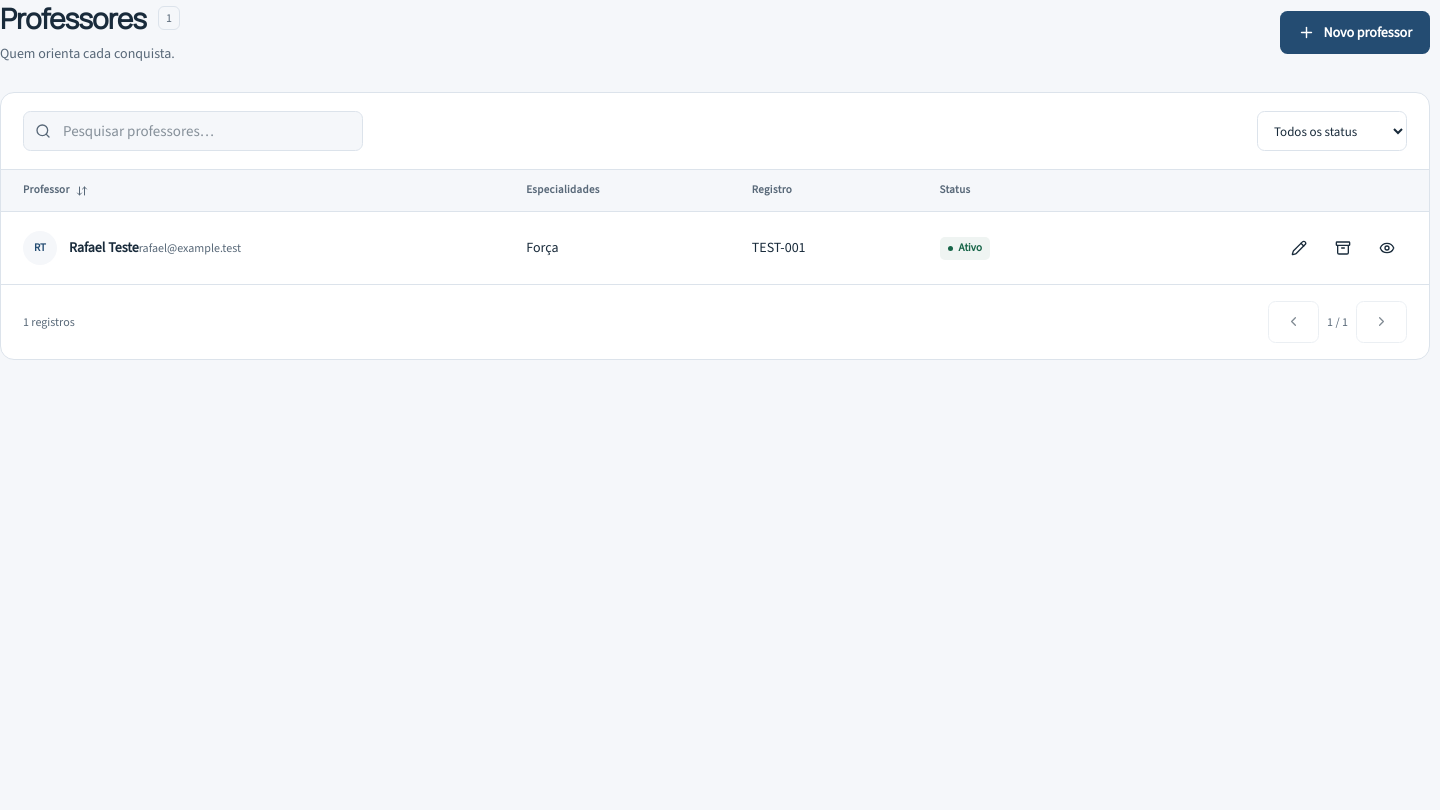
Test case: teachers › cria registro com validação e atualiza os dados exibidos
Expected: the table is shown, [1,170,1429,284]
Click the button "Novo professor". click: (1355, 32)
box: [1280,11,1430,54]
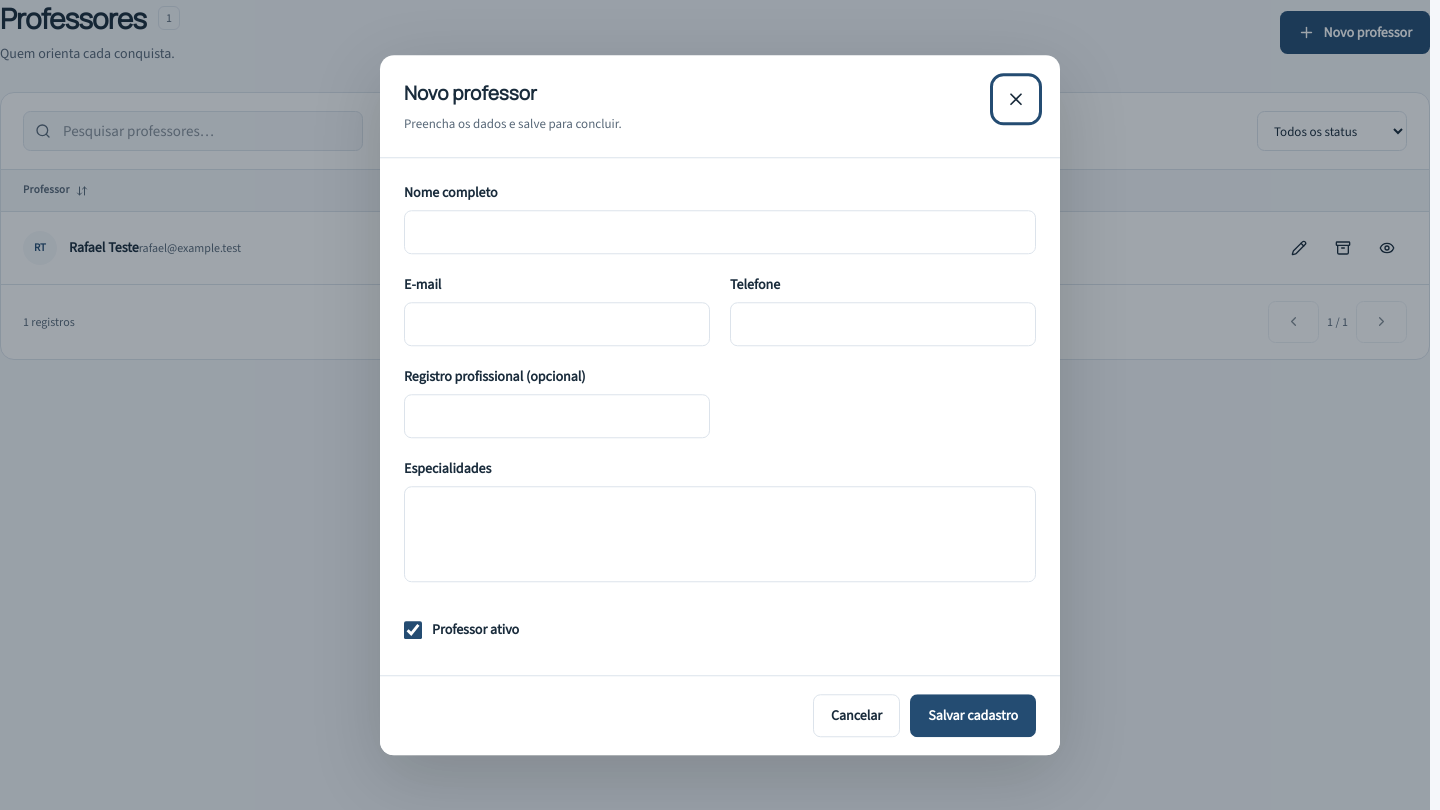
Type "Professor novo" into the field labelled "Nome completo". click: (720, 232)
box: [404,210,1036,254]
Type "novo@example.test" into the field labelled "E-mail". click: (557, 324)
box: [404,302,710,346]
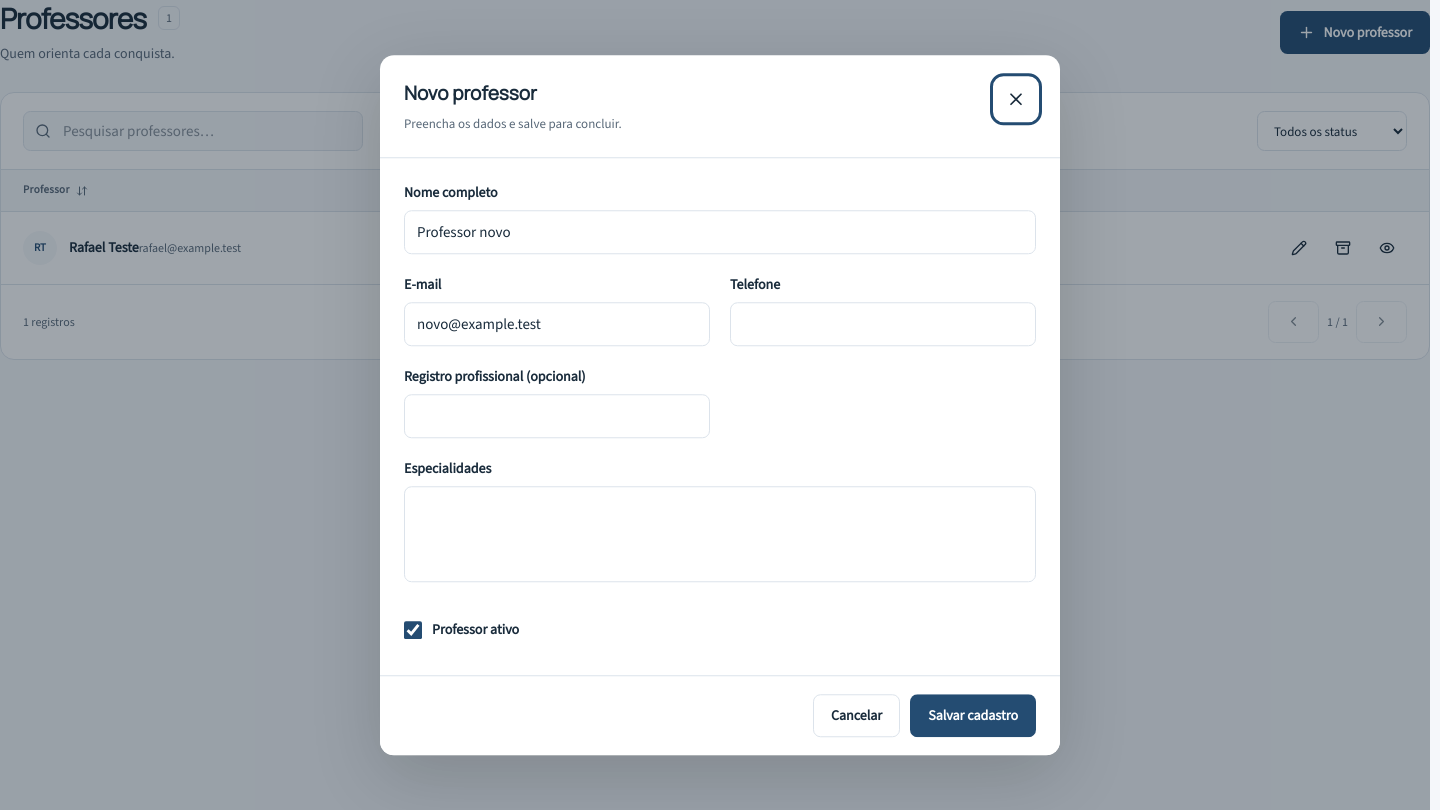
Type "11999997777" into the field labelled "Telefone". click: (883, 324)
box: [730,302,1036,346]
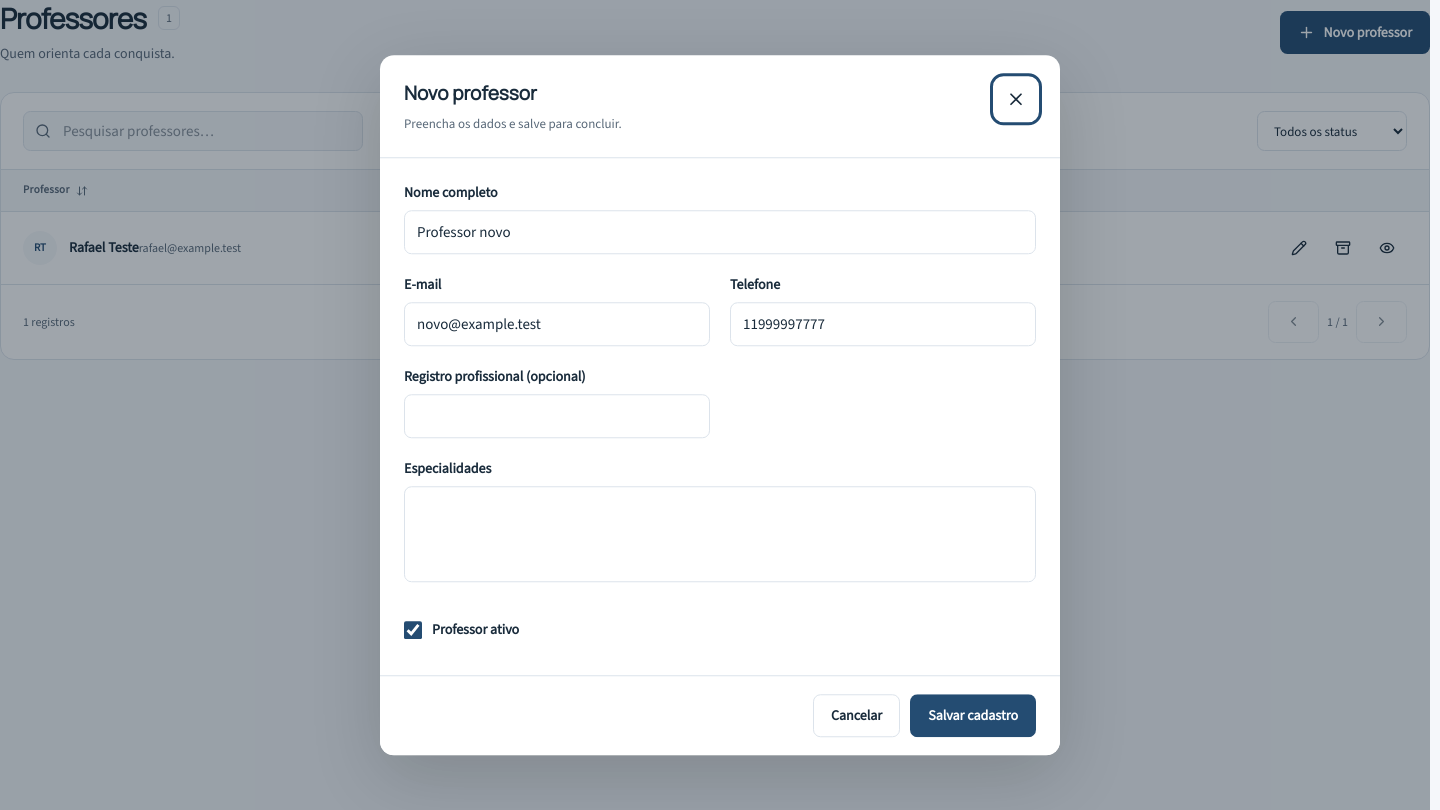
Type "TEST-NEW" into the field labelled "Registro profissional (opcional)". click: (557, 416)
box: [404,394,710,438]
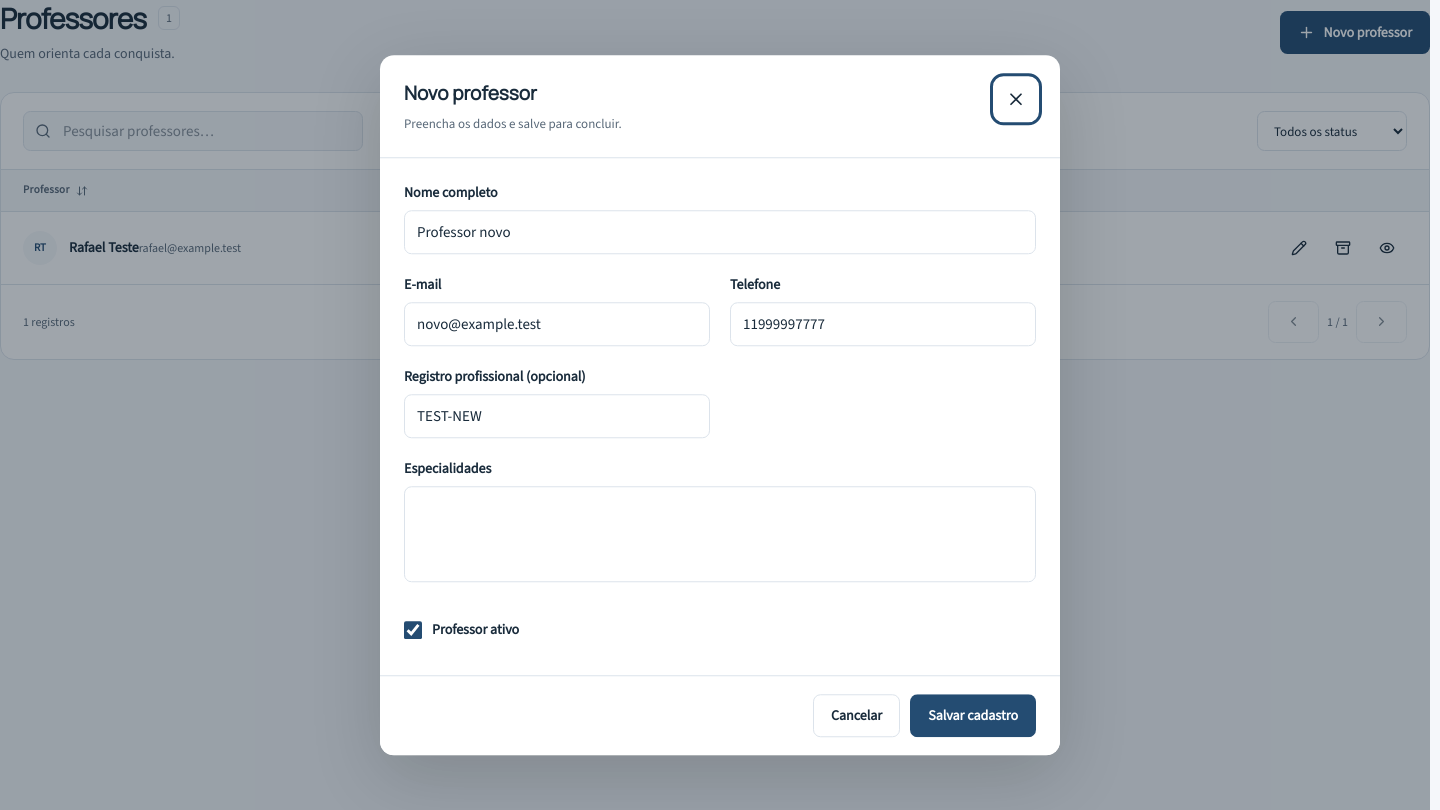
Type "Condicionamento" into the text box labelled "Especialidades". click: (720, 534)
box: [404,486,1036,582]
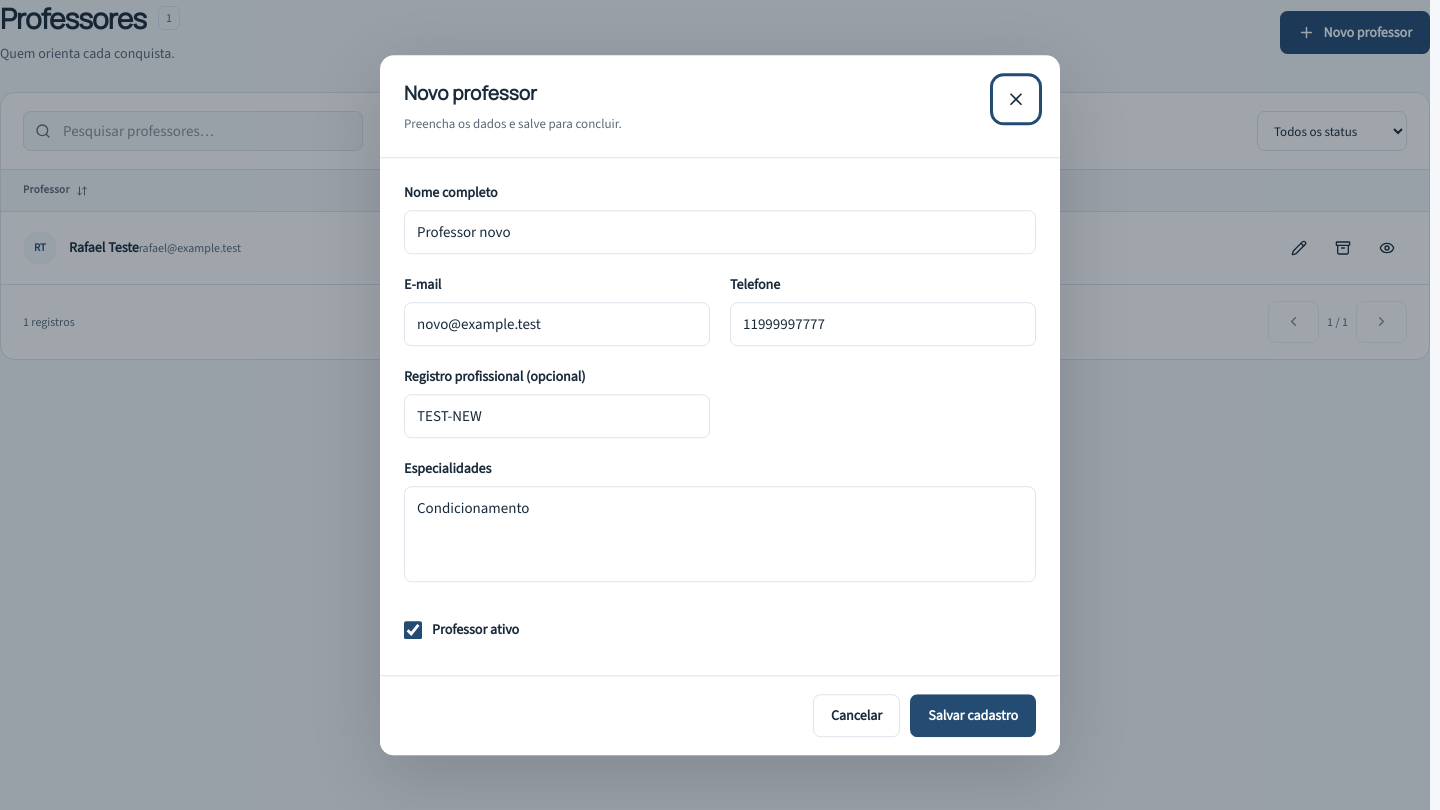
Click the button "Salvar cadastro". click: (973, 715)
box: [910,694,1036,737]
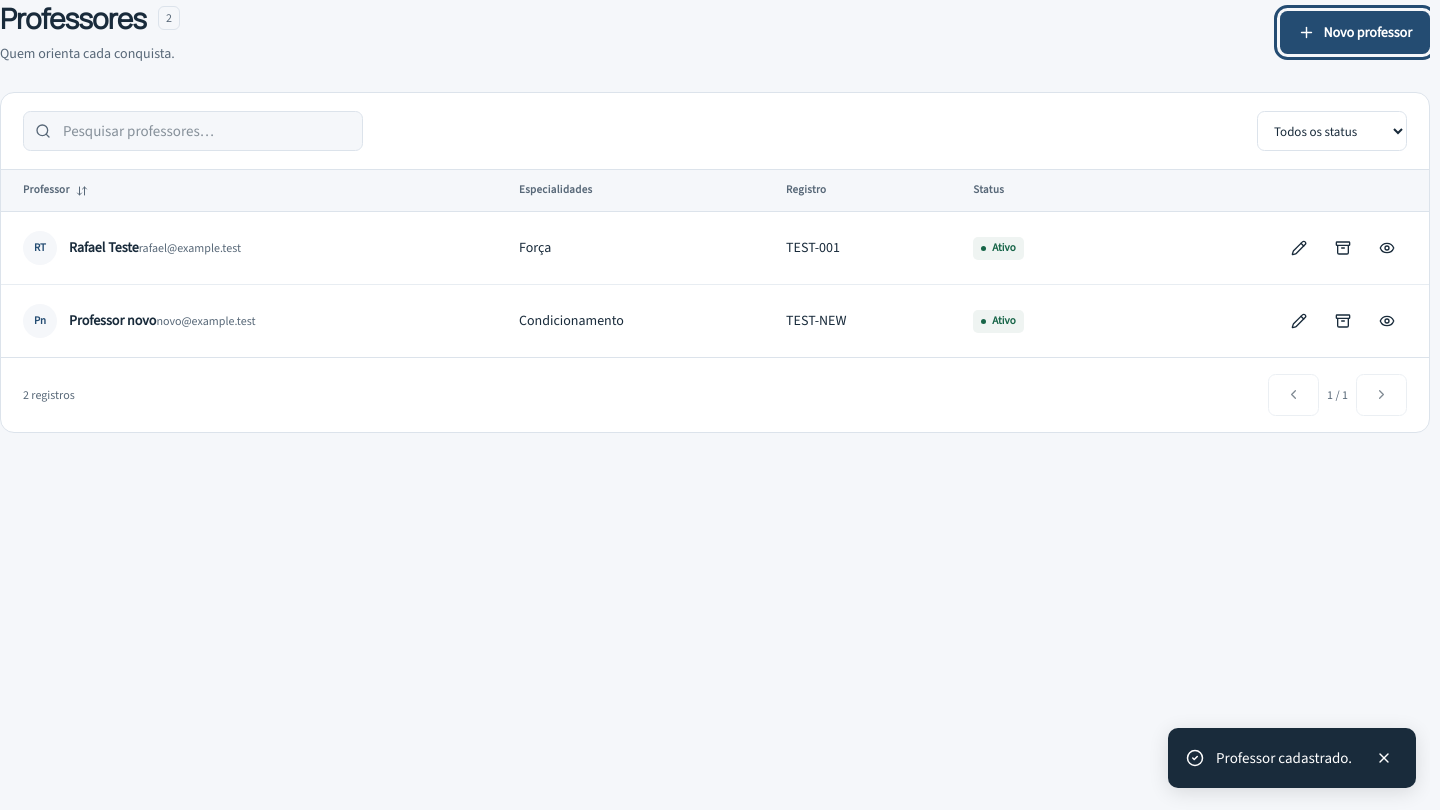
Now the dialog is gone
Now the message reads "Professor cadastrado.", box [1216,748,1352,768]
